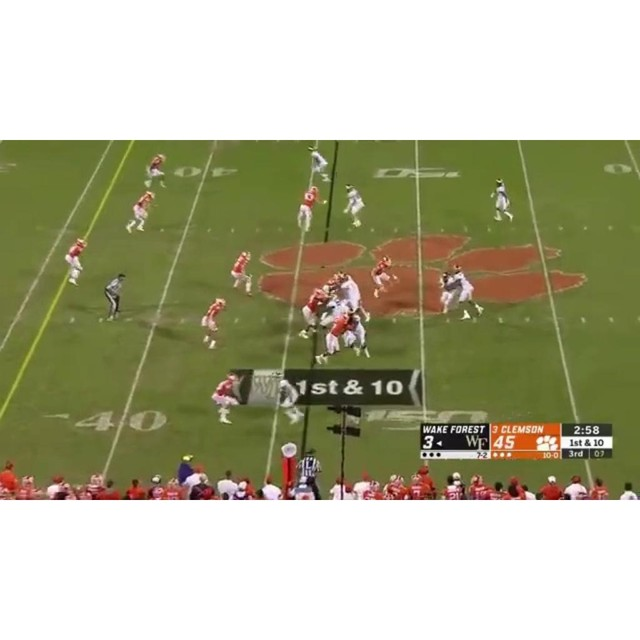american-football-player: (314, 311, 351, 366), (451, 265, 484, 321), (299, 284, 330, 339), (211, 371, 241, 426), (200, 296, 227, 349), (298, 186, 328, 232), (339, 273, 369, 319), (126, 191, 156, 233), (370, 255, 397, 299), (64, 238, 87, 288), (349, 314, 372, 359), (491, 177, 514, 222), (230, 251, 252, 297), (343, 184, 366, 227), (307, 145, 332, 182), (437, 270, 457, 315), (145, 153, 167, 188)
referee: (103, 271, 127, 322)
